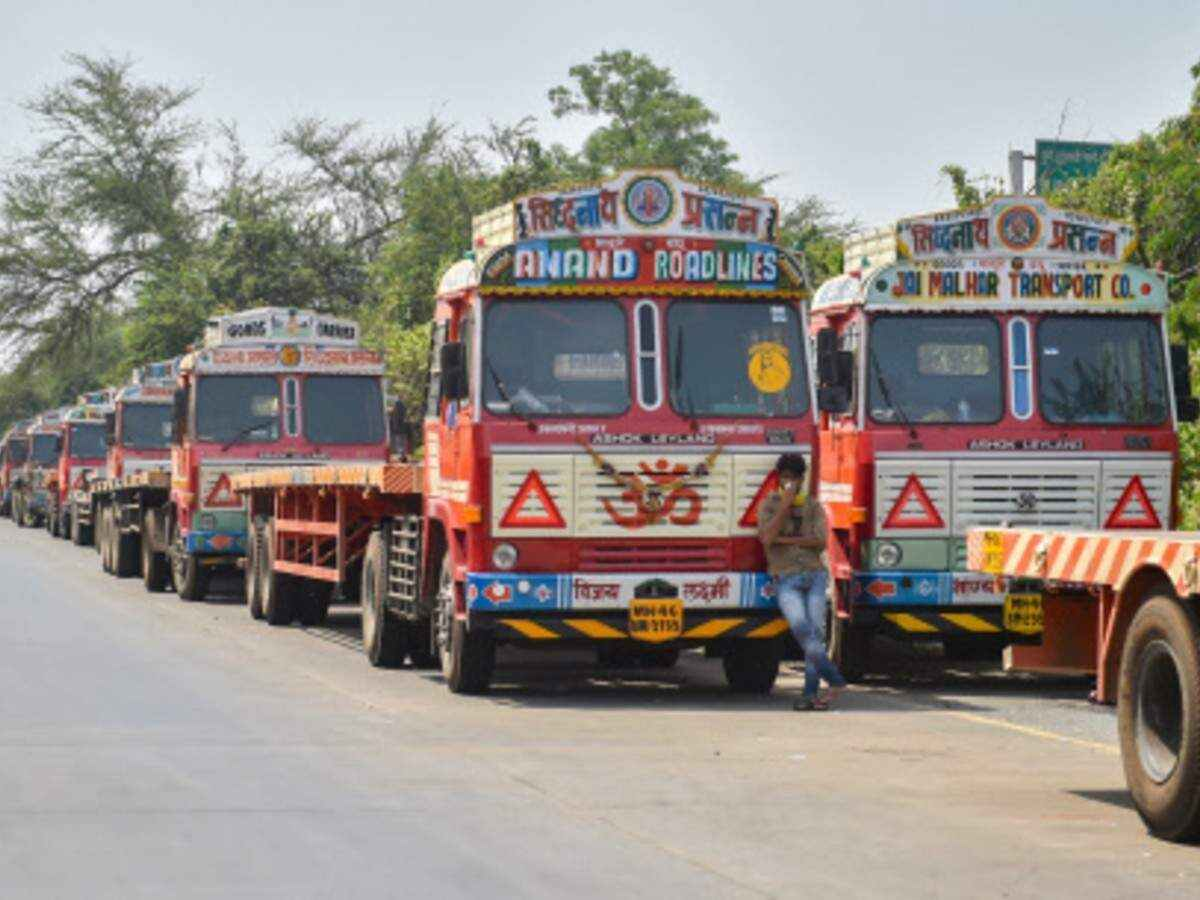truck: (430, 203, 808, 705), (821, 229, 1181, 688), (179, 323, 394, 599), (112, 383, 185, 549), (61, 401, 109, 495), (28, 419, 59, 510), (5, 427, 29, 515)
